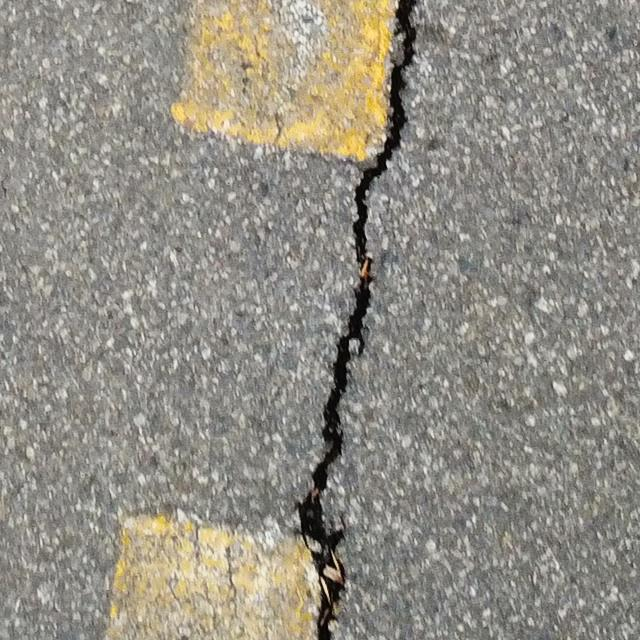LongitudinalCrack: (299, 1, 420, 640)
